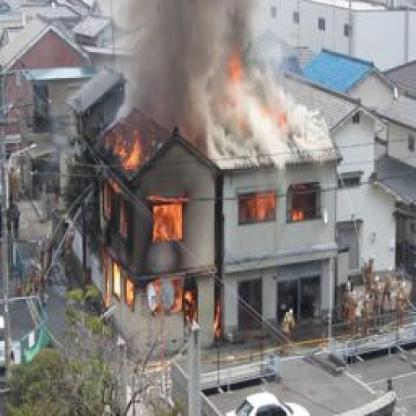fire: (217, 42, 295, 138), (86, 121, 149, 173), (152, 199, 187, 243), (238, 192, 278, 224), (287, 208, 307, 224)
